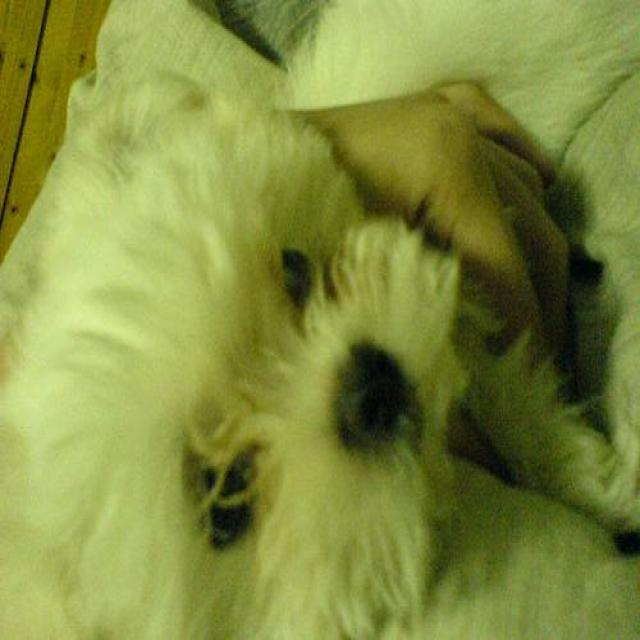maltese_dog: (0, 68, 632, 638)
